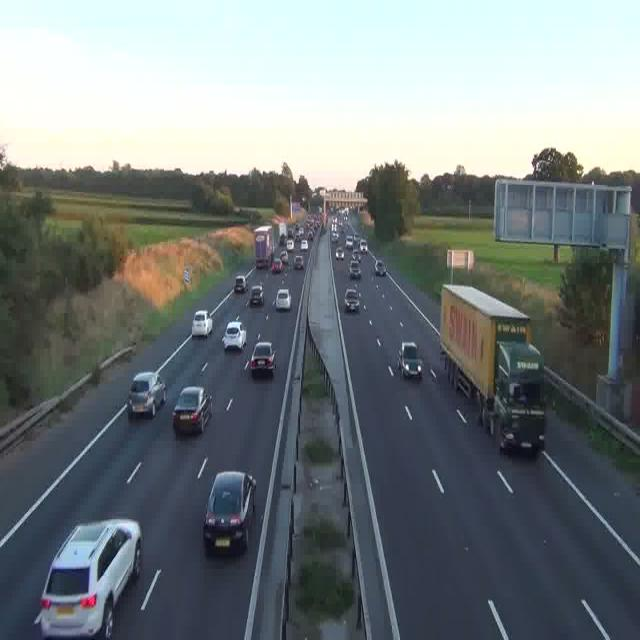car: (37, 517, 142, 640), (203, 470, 255, 555), (172, 386, 212, 434), (128, 372, 166, 418), (250, 340, 276, 377), (397, 341, 421, 378), (223, 320, 247, 349), (192, 308, 213, 337), (344, 286, 360, 313), (276, 286, 292, 310), (248, 285, 264, 306), (234, 274, 246, 293), (349, 261, 361, 280), (374, 258, 386, 276), (270, 258, 282, 274), (293, 255, 303, 270), (335, 247, 344, 261), (359, 240, 368, 252), (300, 237, 308, 250)
truck: (439, 284, 546, 453), (254, 225, 274, 268), (278, 222, 288, 244)
